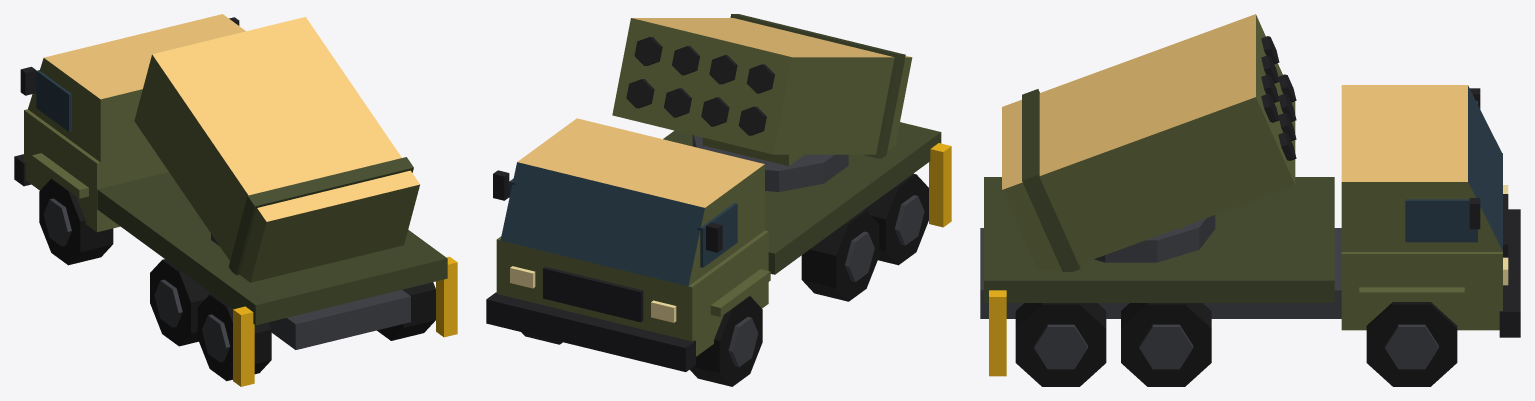
The model's file is artillery_truck.glb.
3 views of the same model, side by side, from view 1: azimuth 30°, elevation 25°; view 2: azimuth 150°, elevation 25°; view 3: azimuth 270°, elevation 25° (orthographic). The views are drawn at different scales.
Visible parts, largest first — view 1: artillery_truck; view 2: artillery_truck; view 3: artillery_truck.
Boxes of the visible parts, <box> form: artillery_truck: <box>14,14,457,386</box>; artillery_truck: <box>486,14,951,386</box>; artillery_truck: <box>980,14,1520,386</box>.
Bounding box in the file's own units: 0.79 × 0.8745 × 1.54.
